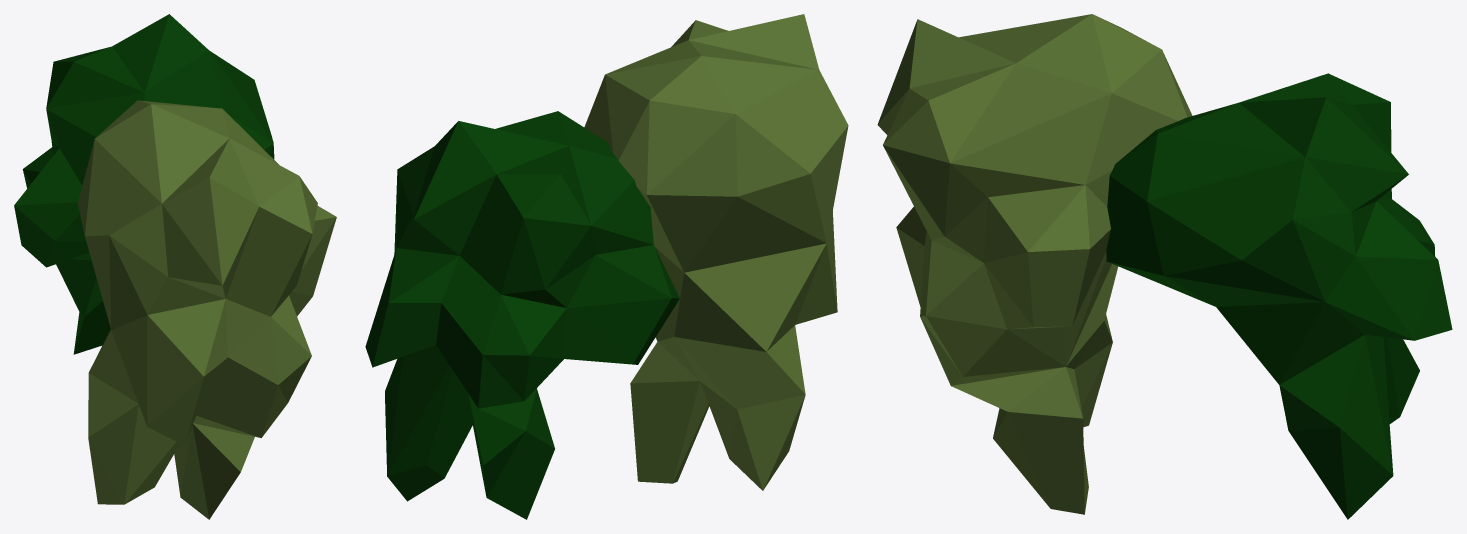
The model's file is LightVegetationWallSmallOvergrownTopper2.fbx.
3 views of the same model, side by side, from view 1: azimuth 30°, elevation 25°; view 2: azimuth 150°, elevation 25°; view 3: azimuth 270°, elevation 25° (orthographic). The views are drawn at different scales.
Parts seen in each view (by area): view 1: LightVegetationWallSmallOvergrownTopper2; view 2: LightVegetationWallSmallOvergrownTopper2; view 3: LightVegetationWallSmallOvergrownTopper2.
Boxes of the visible parts, <box> form: LightVegetationWallSmallOvergrownTopper2: <box>14,14,336,519</box>; LightVegetationWallSmallOvergrownTopper2: <box>365,14,848,519</box>; LightVegetationWallSmallOvergrownTopper2: <box>877,14,1452,519</box>.
Size of the model in its own units: 373 by 526 by 580.
